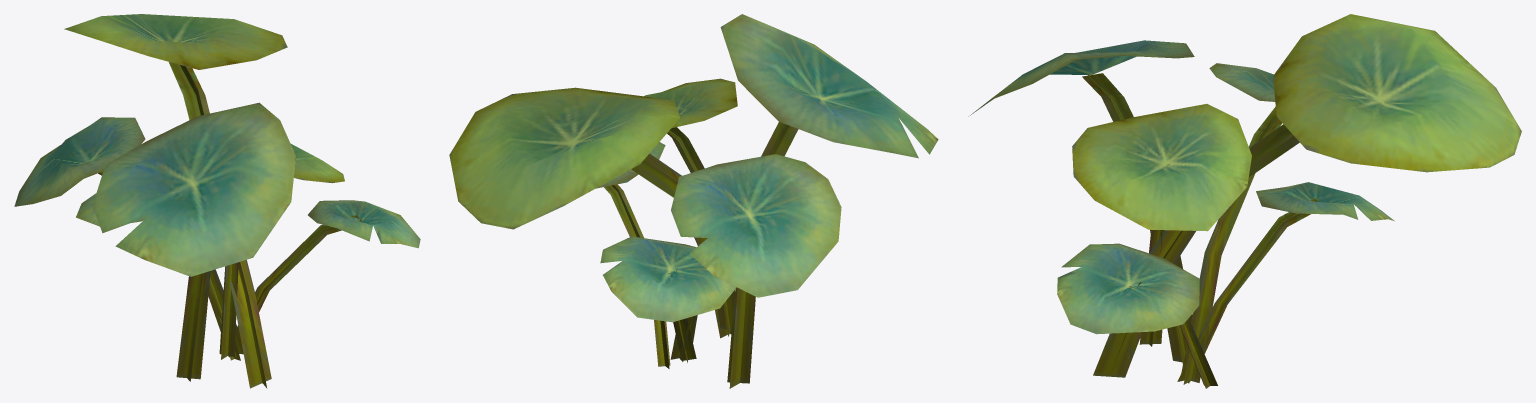
The model's file is grass1.FBX.
3 views of the same model, side by side, from view 1: azimuth 30°, elevation 25°; view 2: azimuth 150°, elevation 25°; view 3: azimuth 270°, elevation 25° (orthographic). The views are drawn at different scales.
Parts seen in each view (by area): view 1: lumina_natural_grass01_01; view 2: lumina_natural_grass01_01; view 3: lumina_natural_grass01_01.
Part boxes in pixels (bbox=[...]): lumina_natural_grass01_01: bbox=[14, 14, 420, 388]; lumina_natural_grass01_01: bbox=[449, 14, 938, 388]; lumina_natural_grass01_01: bbox=[968, 14, 1521, 388].
Size of the model in its own units: 1.34 by 1.17 by 1.71.
